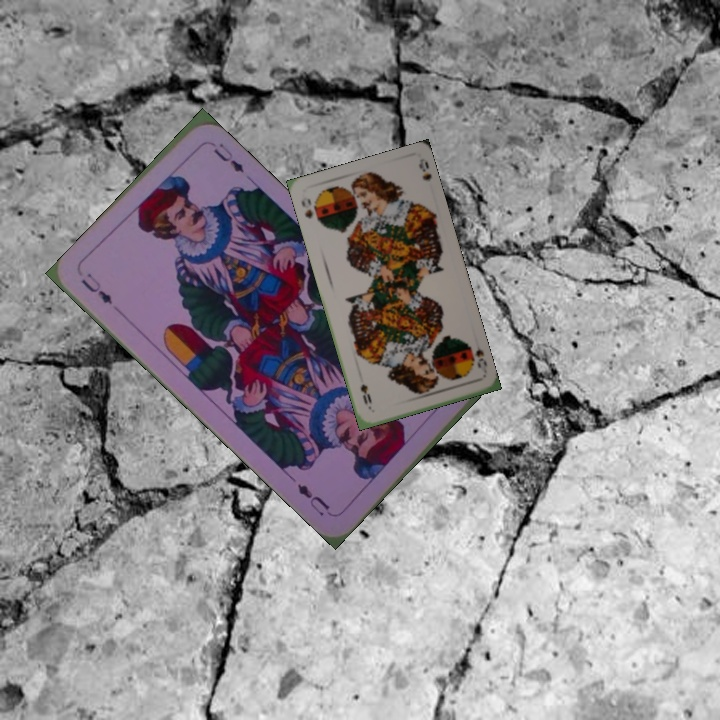EU: (76, 269, 115, 307)
SO: (463, 336, 490, 370), (297, 194, 315, 221)
